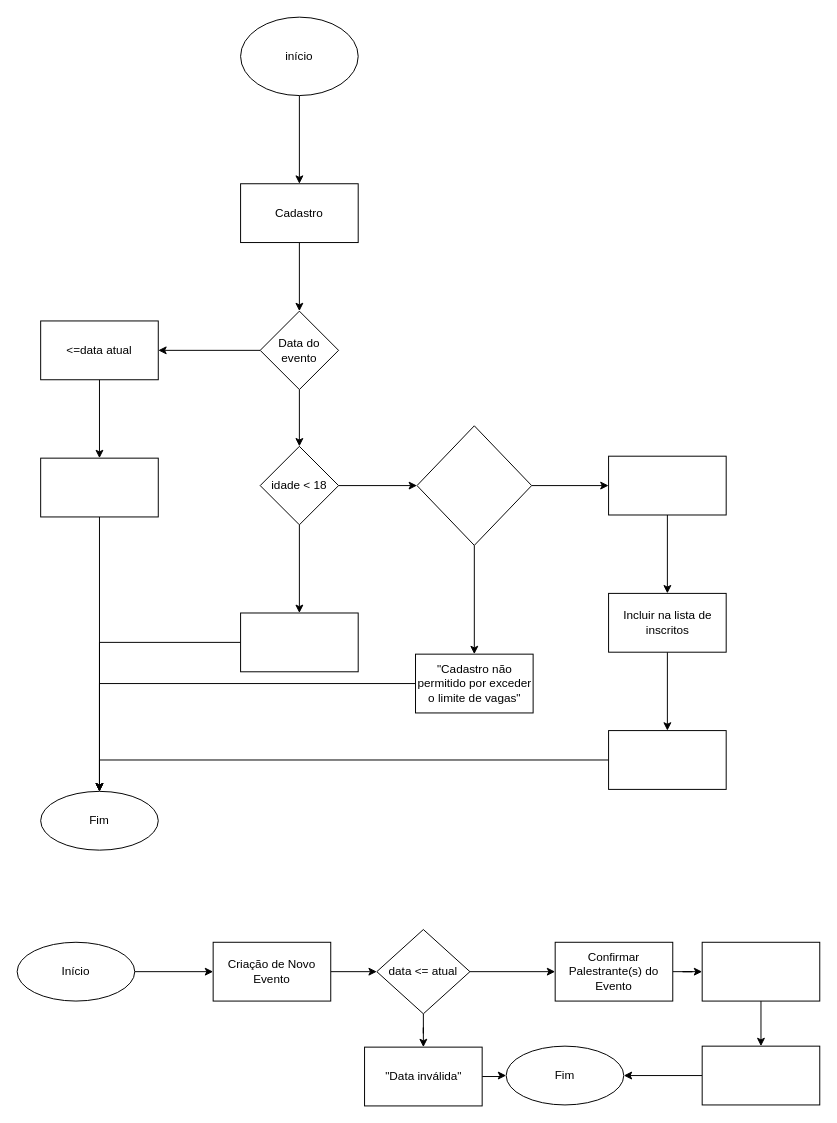
Some shapes in this 837 by 1123 pixel diagram are drawn without their labels. The shapes that lost their labels are listed below. From the top down, each one's centre as x and y in pixels, then its label:
the point at 99,487: "Evento já realizado."
the point at 474,485: lista de inscritos <100
the point at 667,485: Cadastrar
the point at 299,642: "Cadastro exclusivo para maiores de 18 anos"
the point at 667,759: Confirmar inscrição
the point at 760,971: Lista do(s) Palestrante(s) convidado
the point at 760,1075: Lista dos participantes cadastrados/inscritos
